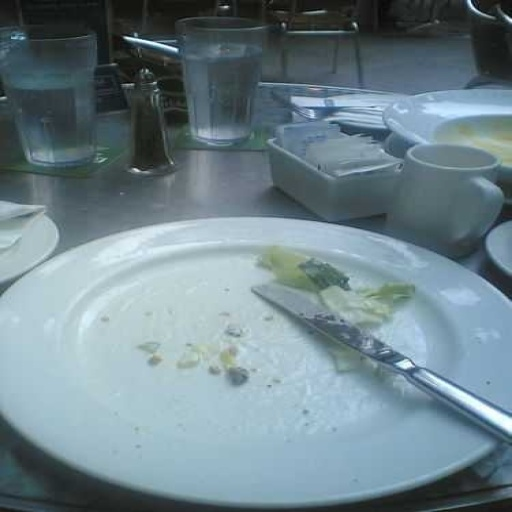piring: (5, 215, 512, 510)
